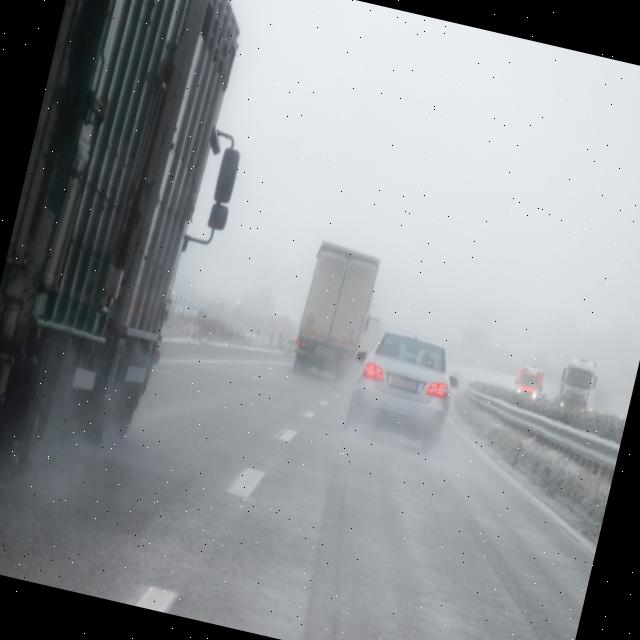bus: (0, 0, 272, 508), (286, 238, 384, 386), (553, 357, 598, 417), (511, 357, 549, 403)
car: (342, 322, 464, 457)
